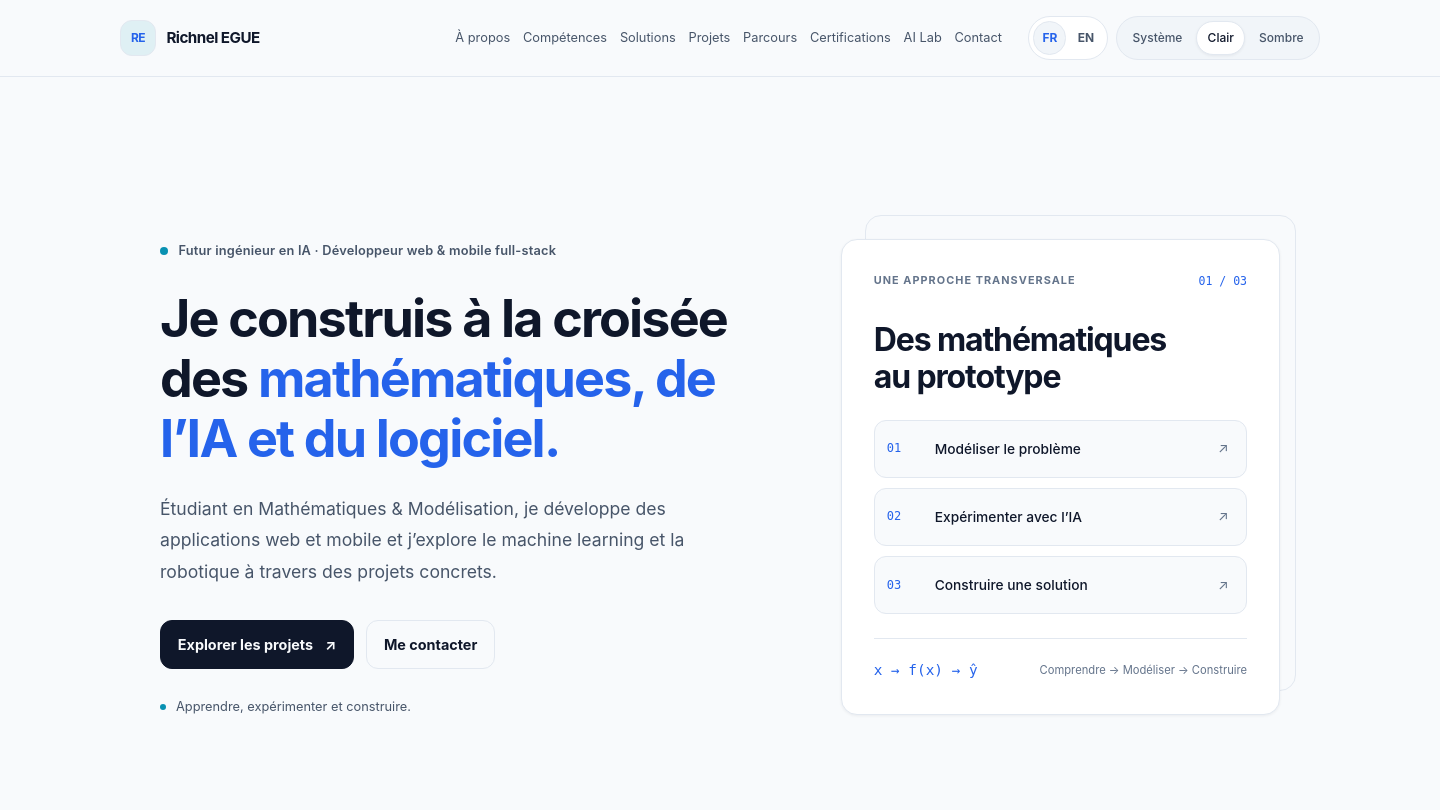
it: switches between French and English
Expected: the heading "Je construis à la croisée des" is shown, [160, 289, 754, 469]
Click the button with aria-label "Passer en anglais". click: (1086, 38)
box: [1069, 21, 1103, 55]
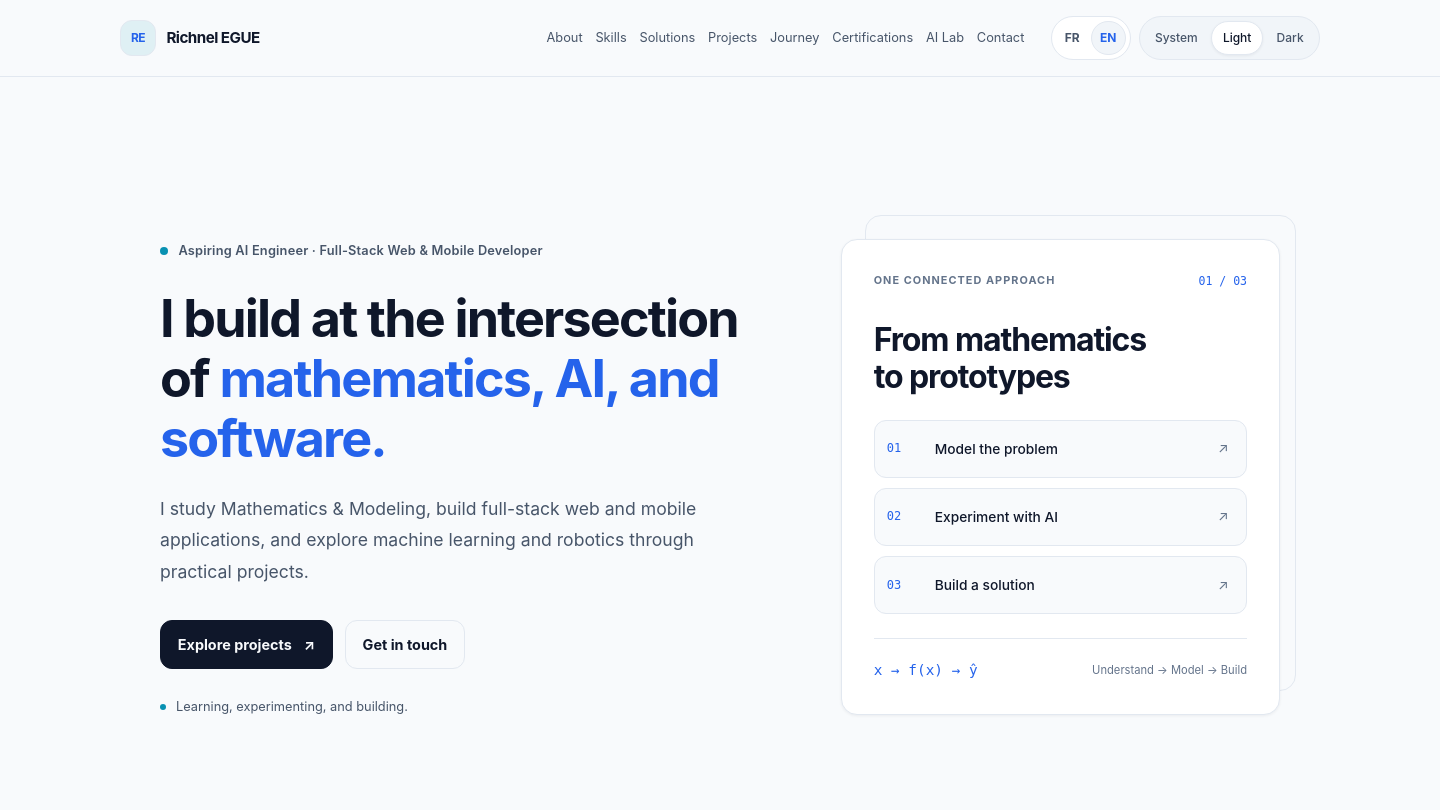
Result: the heading "I build at the intersection of" is shown at [160, 289, 754, 469]
Result: the link "About" is shown at [546, 30, 583, 45]
Result: the link "Projects" is shown at [708, 30, 757, 45]
Click the button with aria-label "Switch to French". click: (1072, 38)
box: [1056, 21, 1089, 55]
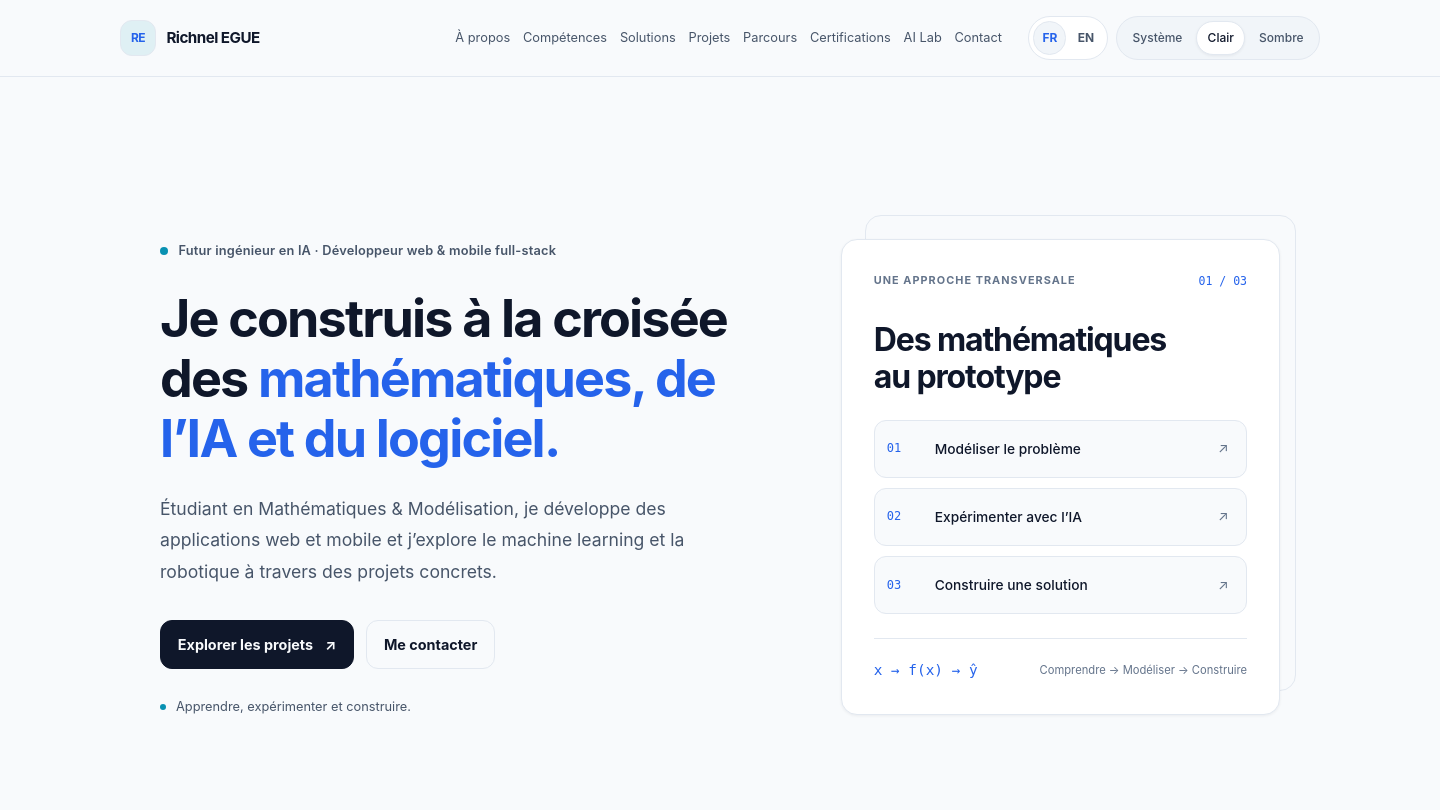
Result: the link "À propos" is shown at [455, 30, 510, 45]
